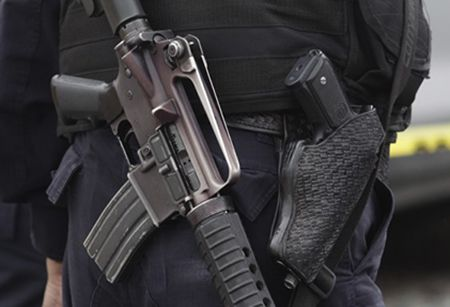Arma Real: (51, 1, 278, 307), (272, 42, 387, 284)
